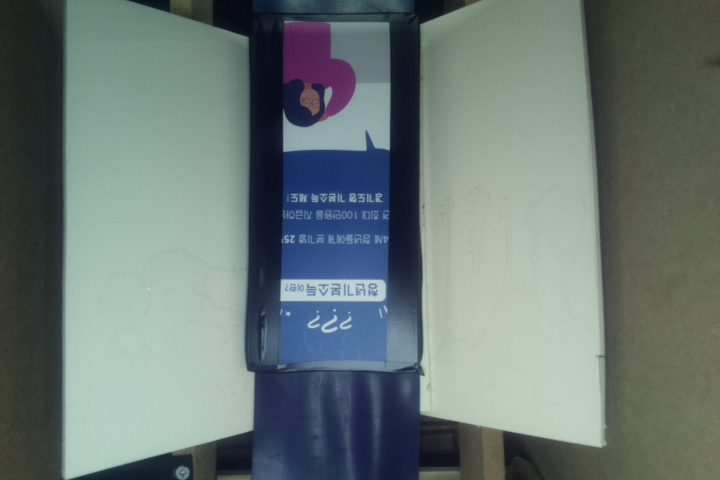book: (244, 10, 426, 376)
